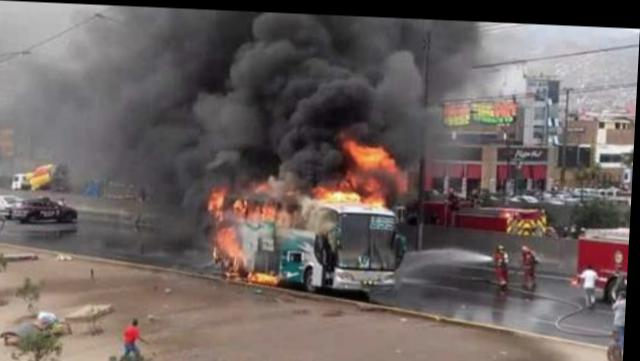fire: (202, 128, 428, 293)
